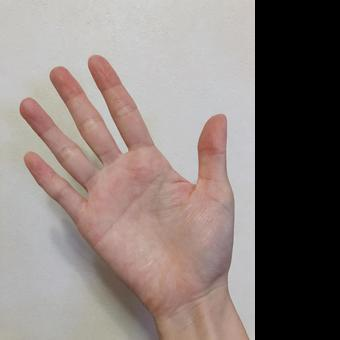pa-: (17, 53, 235, 288)
